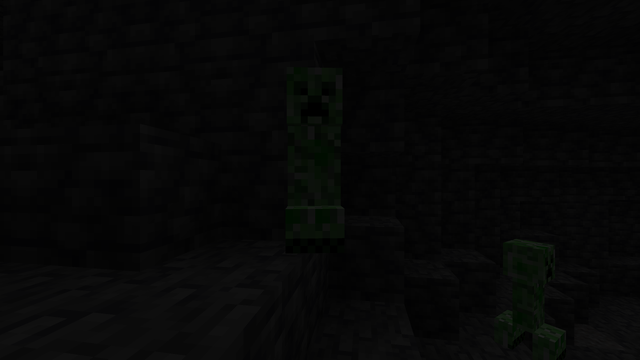creepers: (274, 53, 345, 251), (497, 234, 565, 358)
